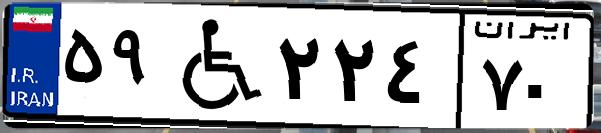0: (525, 38, 570, 115)
2: (270, 28, 330, 110), (330, 28, 385, 110)
4: (385, 28, 445, 110)
5: (57, 26, 110, 100)
7: (475, 38, 525, 113)
9: (110, 28, 158, 98)
ژ (معلولین و جانبازان): (158, 12, 270, 120)
